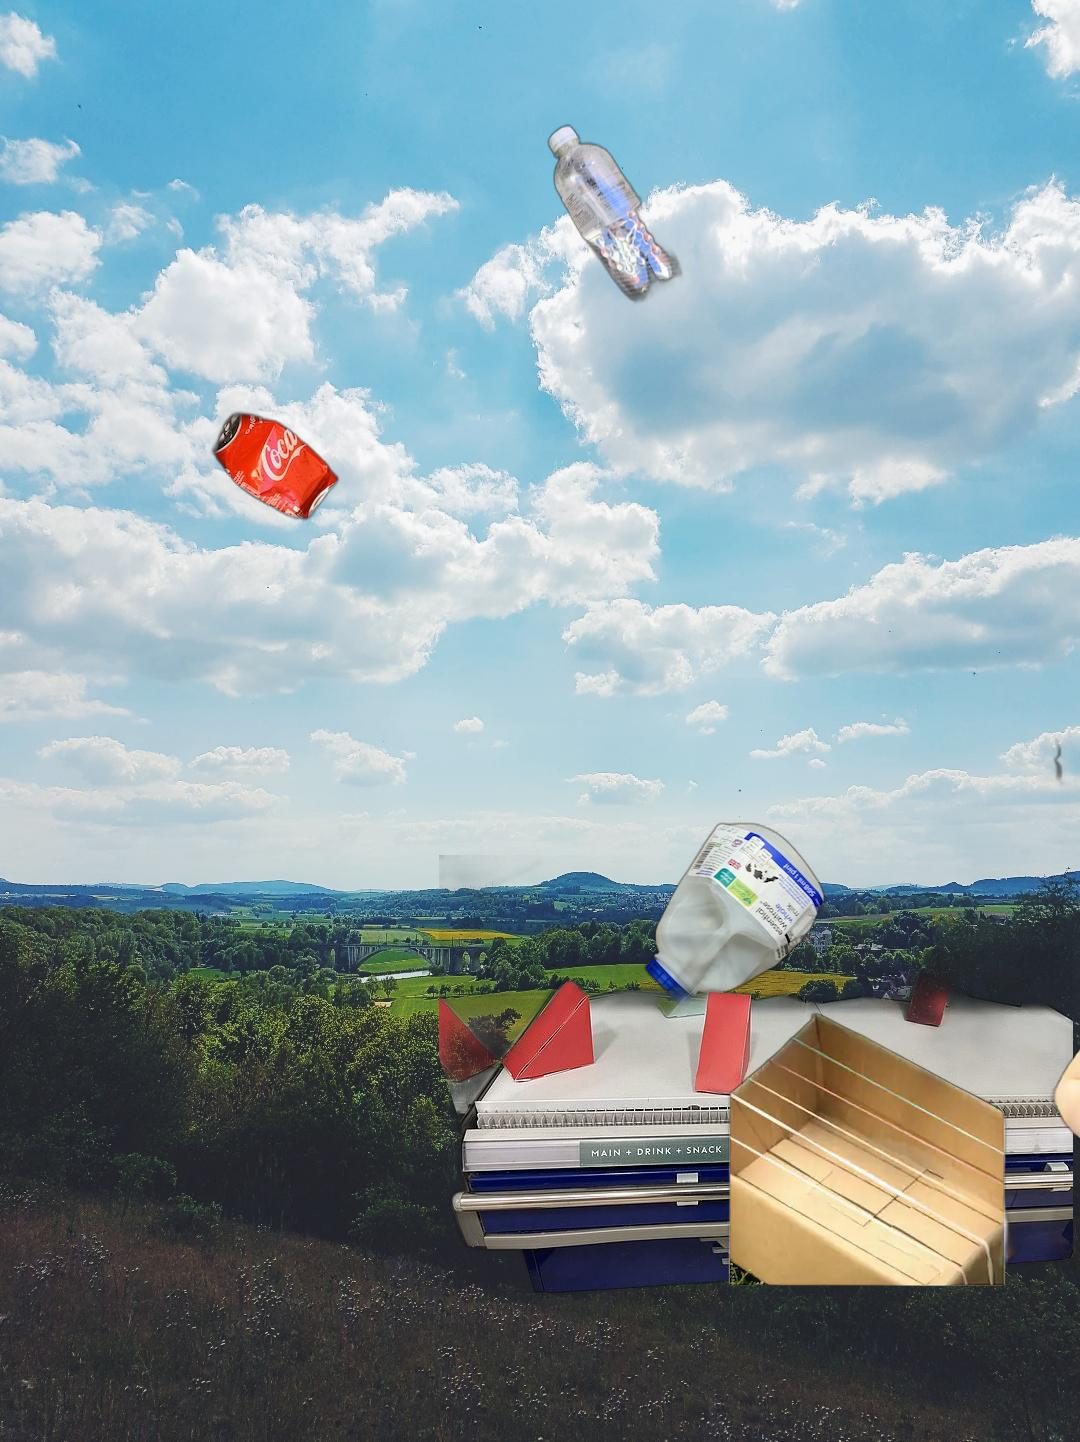metal-cans: (208, 407, 343, 525)
paper: (1039, 734, 1080, 840)
plastic-bottles: (641, 817, 829, 1012), (545, 120, 718, 307)
trashbox-cardboard: (439, 855, 1073, 1299), (726, 1009, 1080, 1289), (574, 1436, 788, 1442)
